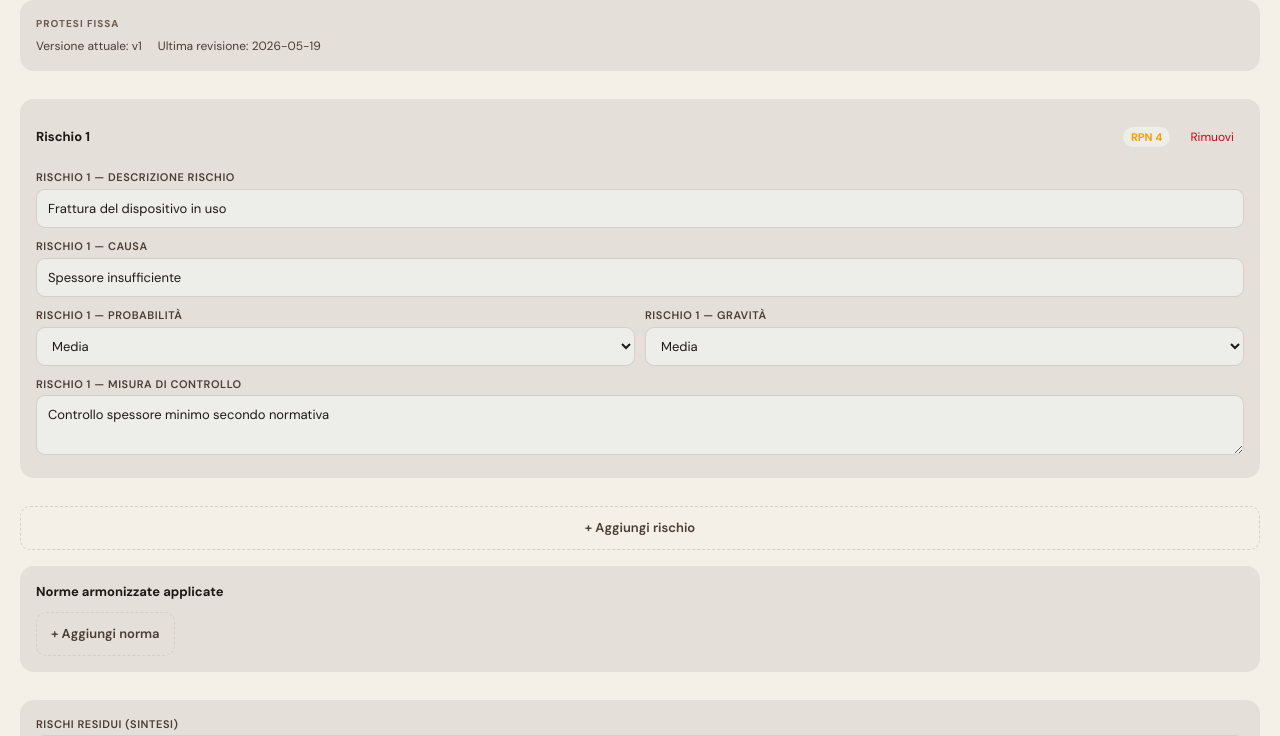
RischiEditor › rimuovere rischio rimasto blocca submit con messaggio
Step 1. Click the button with aria-label "Rimuovi rischio 1" → (1212, 137), box [1180, 115, 1244, 159]
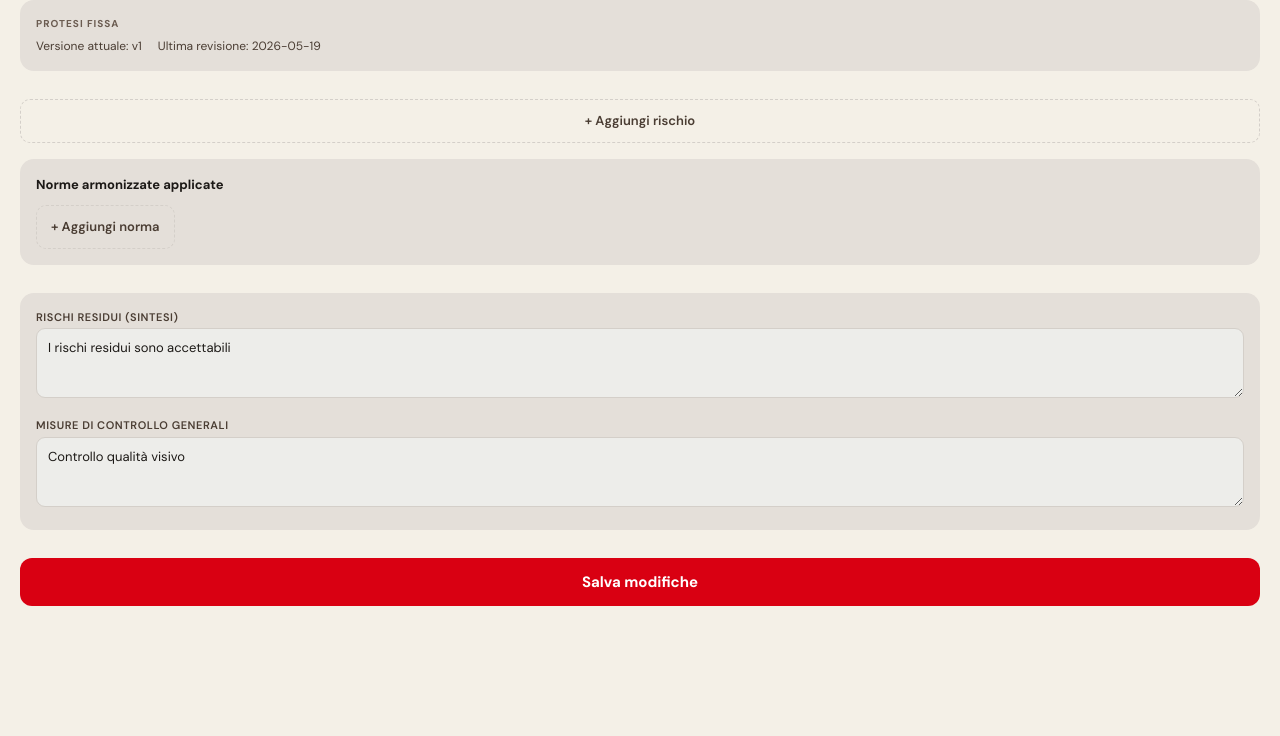
Step 2. Click the button "Salva modifiche" → (640, 582), box [20, 558, 1260, 606]
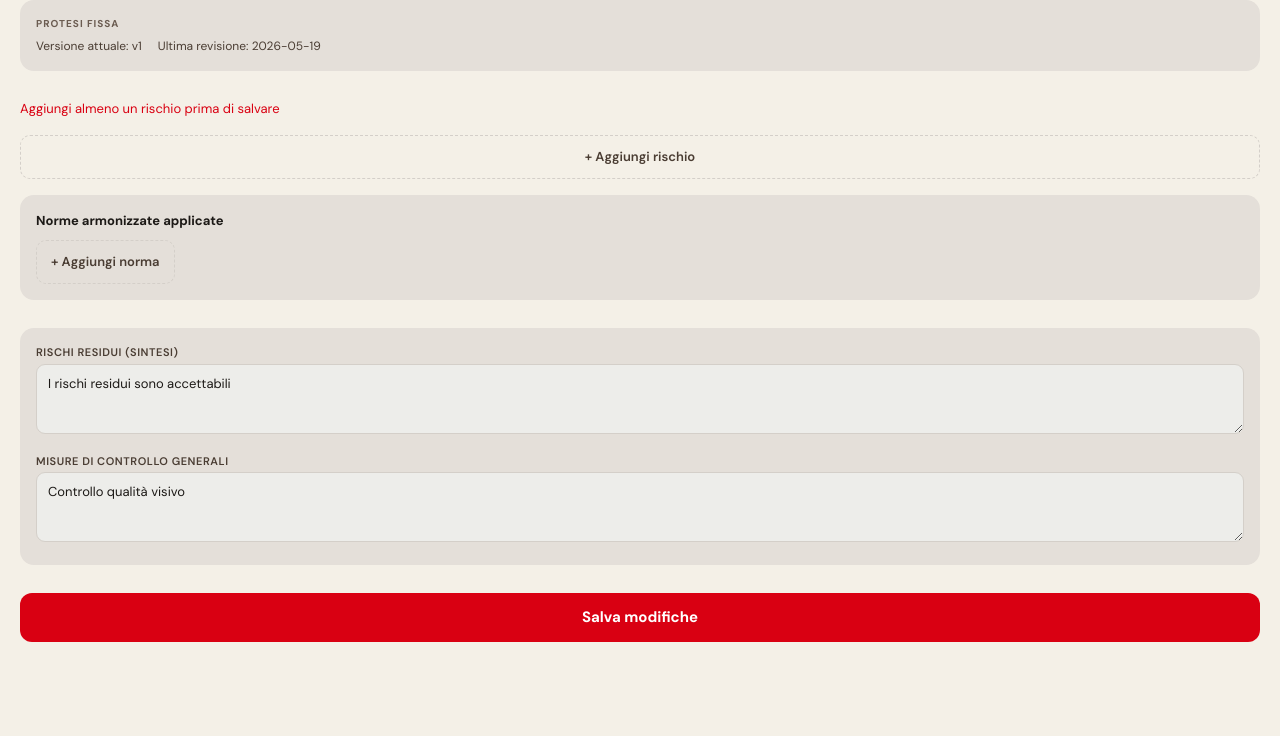
Expected: the message shows "almeno un rischio", [20, 100, 280, 117]
